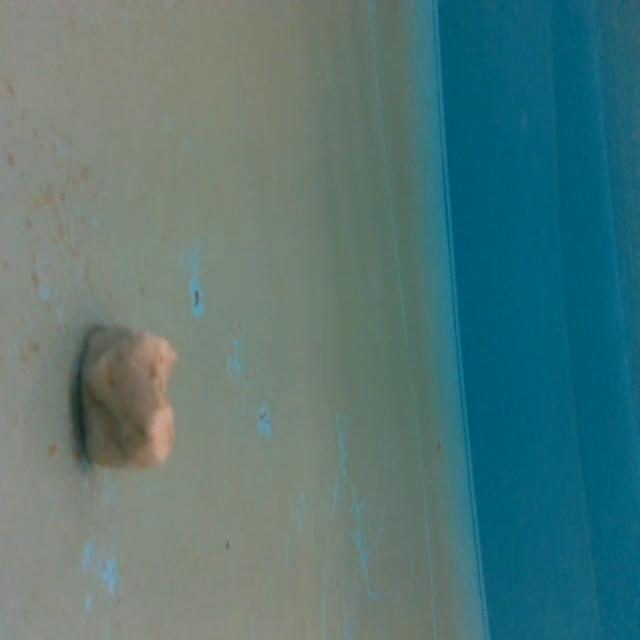rock: (77, 317, 180, 482)
